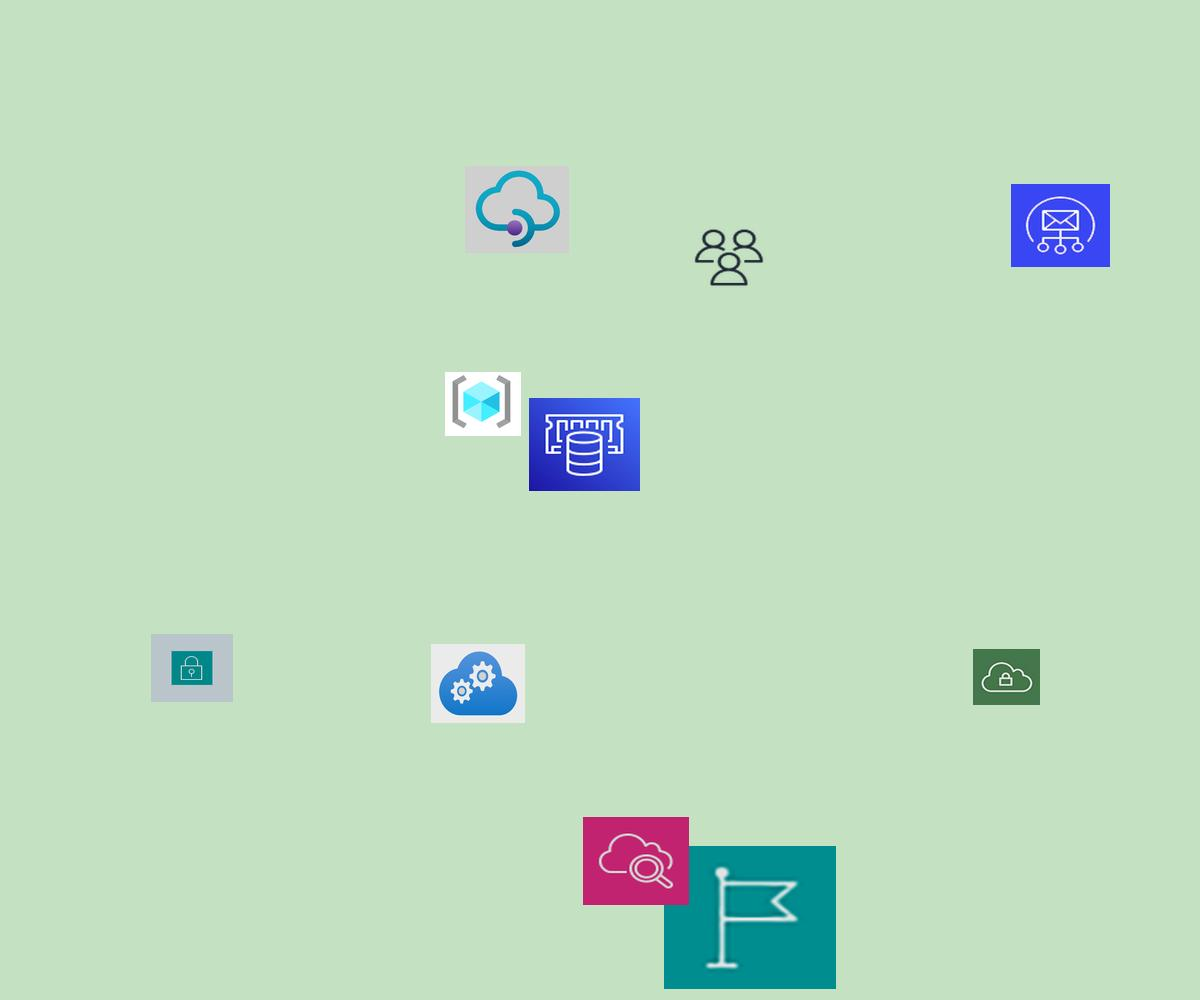AWS-CloudWatch: (583, 817, 689, 905)
AWS-ElastiCache: (529, 398, 640, 491)
AWS-Private-subnet: (151, 634, 233, 702)
AWS-Private_vpc: (973, 649, 1040, 705)
AWS-Region: (664, 846, 836, 989)
AWS-Res_Users: (692, 227, 766, 288)
AWS-Simple-Email-Service: (1011, 184, 1110, 267)
Azure_api_gateway: (465, 166, 569, 253)
Azure_cloud_services: (431, 644, 525, 723)
Azure_resource_group: (445, 372, 521, 436)
